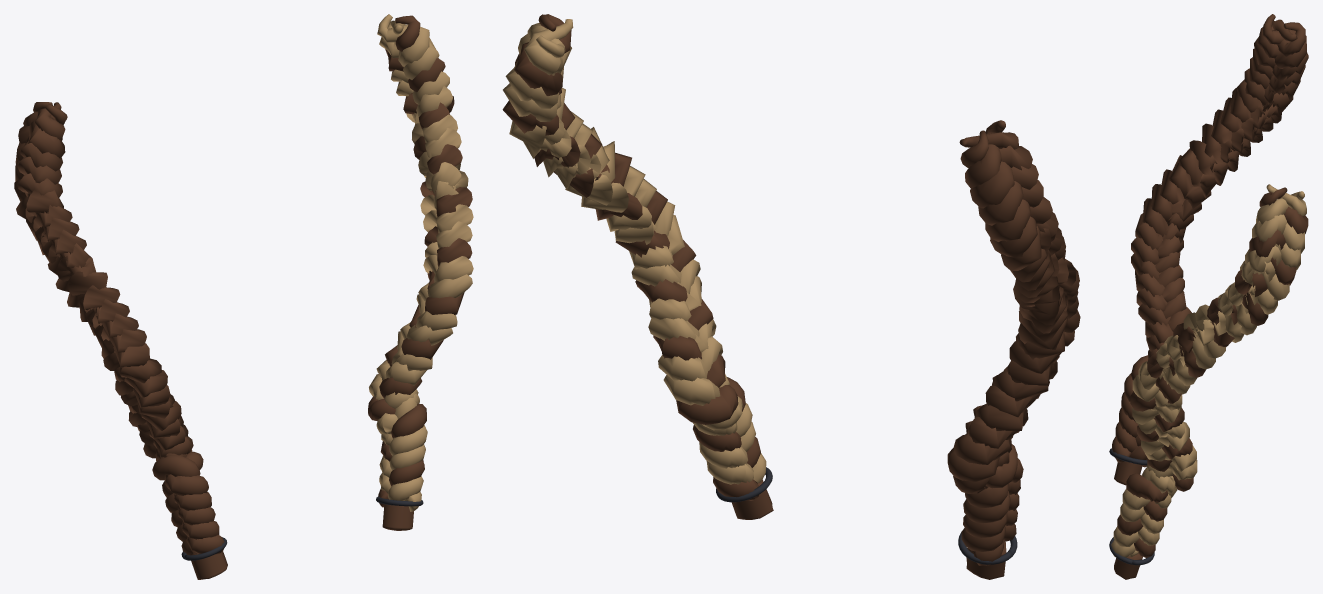
The model's file is Highlights-92b5efcdde5e251-hair.glb.
The picture shows the model from 3 angles, left to right: view 1: azimuth 30°, elevation 25°; view 2: azimuth 150°, elevation 25°; view 3: azimuth 270°, elevation 25°; orthographic projection. The views are drawn at different scales.
Parts seen in each view (by area): view 1: 226 hairLengths / Hair / chestnut226; view 2: 226 hairLengths / Hair / chestnut226, 226 hairLengths / Hair / ties226; view 3: 226 hairLengths / Hair / chestnut226, 226 hairLengths / Hair / ties226.
Part boxes in pixels (x1,y1,x2,y2): 226 hairLengths / Hair / chestnut226: (14,14,473,579); 226 hairLengths / Hair / chestnut226: (502,14,1080,579); 226 hairLengths / Hair / ties226: (716,467,1017,564); 226 hairLengths / Hair / chestnut226: (1111,14,1308,579); 226 hairLengths / Hair / ties226: (1109,448,1154,565).
Size of the model in its own units: 1.09 by 1.06 by 0.444.
